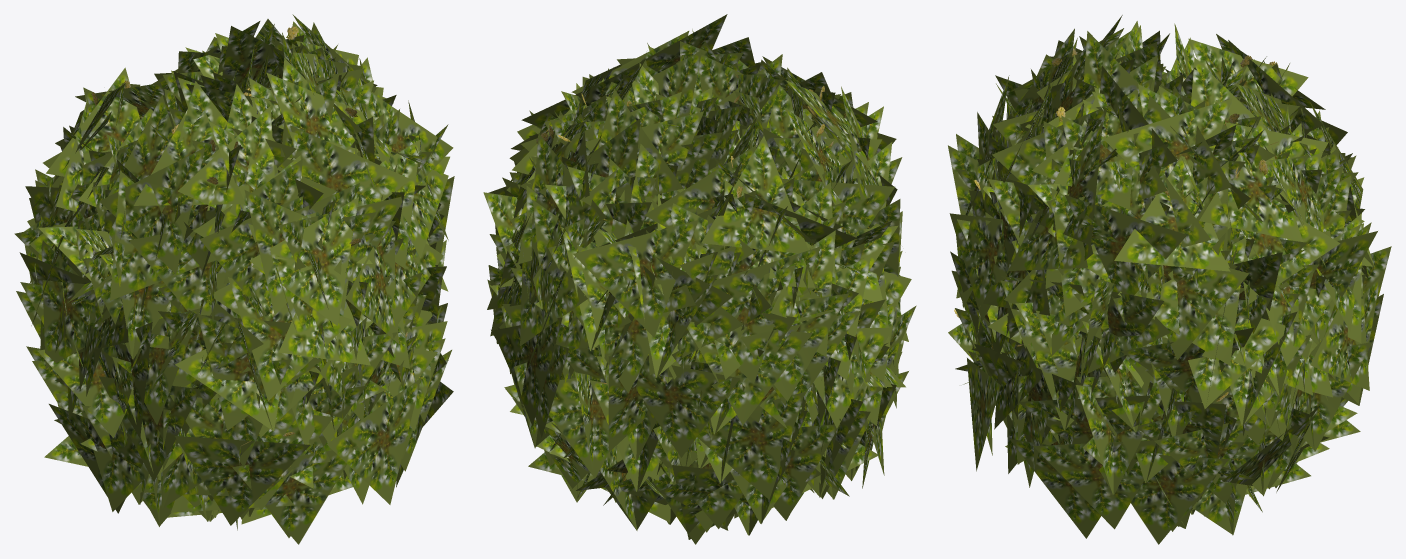
The model's file is Buxus_Sempervirens_Spring_Adult.glb.
3 renders of one model, left to right at view 1: azimuth 30°, elevation 25°; view 2: azimuth 150°, elevation 25°; view 3: azimuth 270°, elevation 25°, orthographic. The views are drawn at different scales.
Parts seen in each view (by area): view 1: Buxus_Sempervirens_Spring_Adult__LOD3; view 2: Buxus_Sempervirens_Spring_Adult__LOD3; view 3: Buxus_Sempervirens_Spring_Adult__LOD3.
Part boxes in pixels (x1,y1,x2,y2): Buxus_Sempervirens_Spring_Adult__LOD3: [14, 14, 454, 544]; Buxus_Sempervirens_Spring_Adult__LOD3: [483, 14, 916, 544]; Buxus_Sempervirens_Spring_Adult__LOD3: [948, 15, 1391, 544].
Bounding box in the file's own units: 1.05 × 1.26 × 1.08.
Materials: 2 (2 with a texture image).
